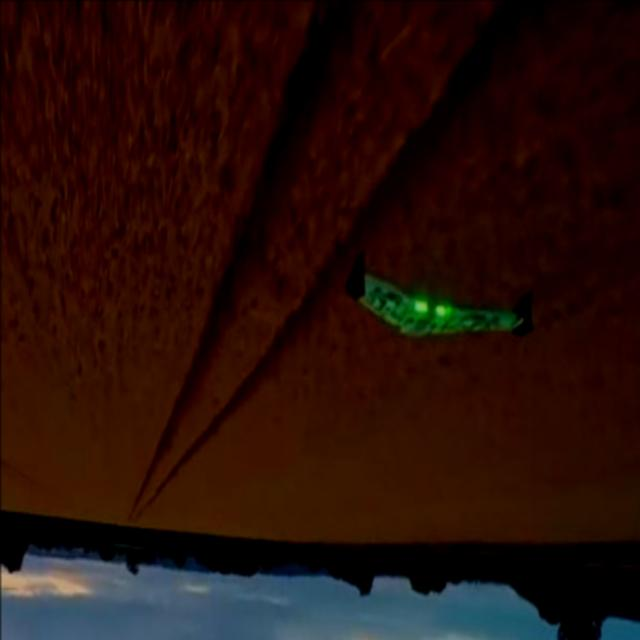plane: (343, 248, 536, 340)
